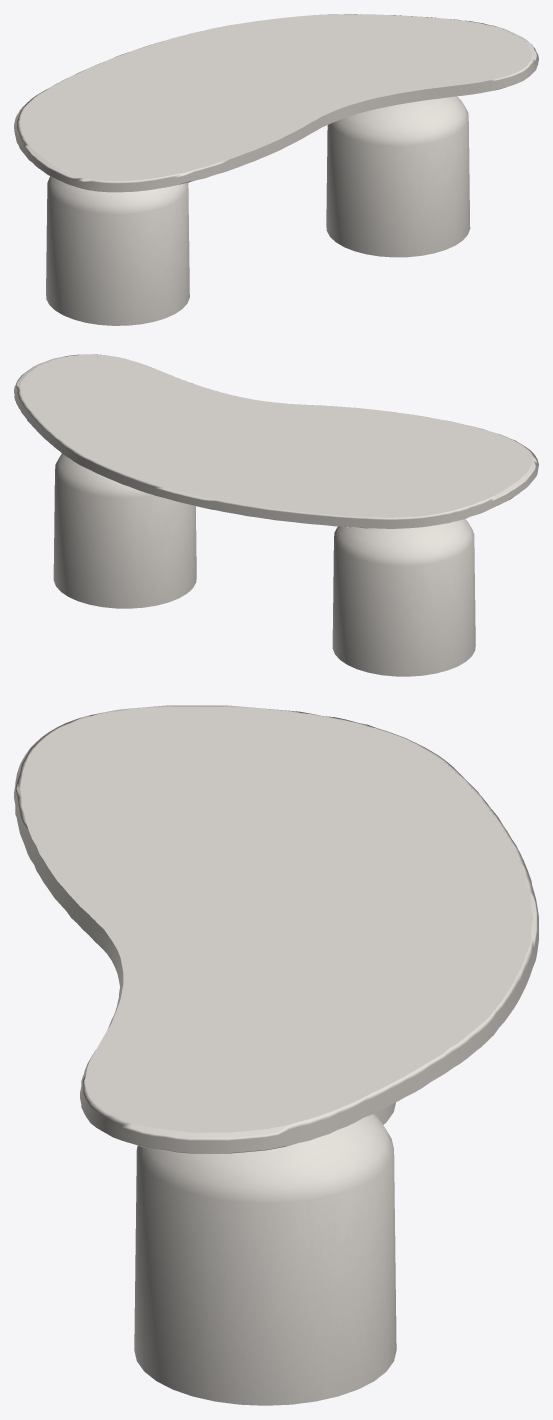
Rendered from pearlwhite_leaf1_round_tornado.glb.
The picture shows the model from 3 angles, top to bottom: view 1: azimuth 30°, elevation 25°; view 2: azimuth 150°, elevation 25°; view 3: azimuth 270°, elevation 25°; orthographic projection. The views are drawn at different scales.
Visible parts, largest first — view 1: round_leaf1, tornado; view 2: round_leaf1, tornado; view 3: round_leaf1, tornado.
Part boxes in pixels (x1,y1,x2,y2): round_leaf1: (14,14,538,192); tornado: (46,96,470,325); round_leaf1: (14,354,538,528); tornado: (53,453,475,676); round_leaf1: (14,705,538,1153); tornado: (134,1102,396,1405).
Bounding box in the file's own units: 7.49 × 2.51 × 3.8.
1 material, 1 textured.
